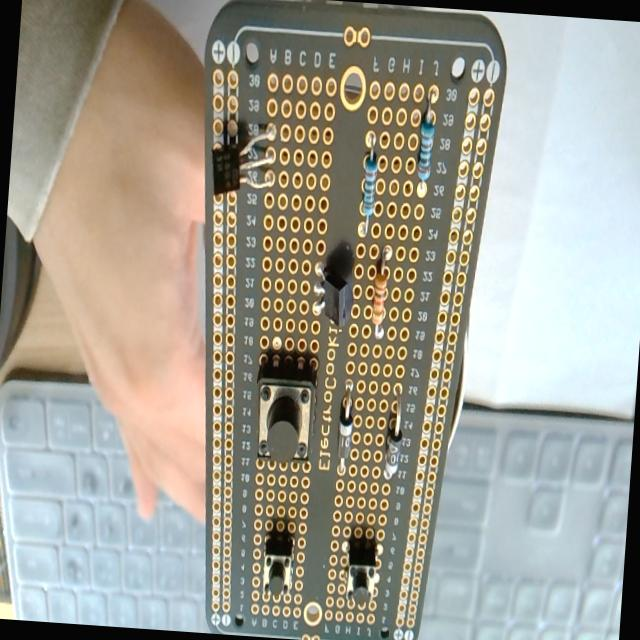diode: (382, 382, 408, 481), (334, 378, 356, 475)
resistor: (358, 131, 380, 236), (368, 245, 392, 338), (415, 92, 437, 184)
switch: (252, 358, 320, 469), (344, 537, 380, 607), (261, 530, 295, 599)
transistor: (208, 117, 279, 203), (308, 244, 357, 336)
